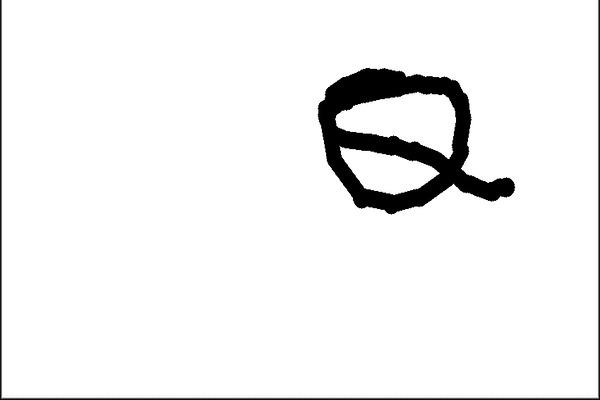Q: (308, 57, 519, 220)
